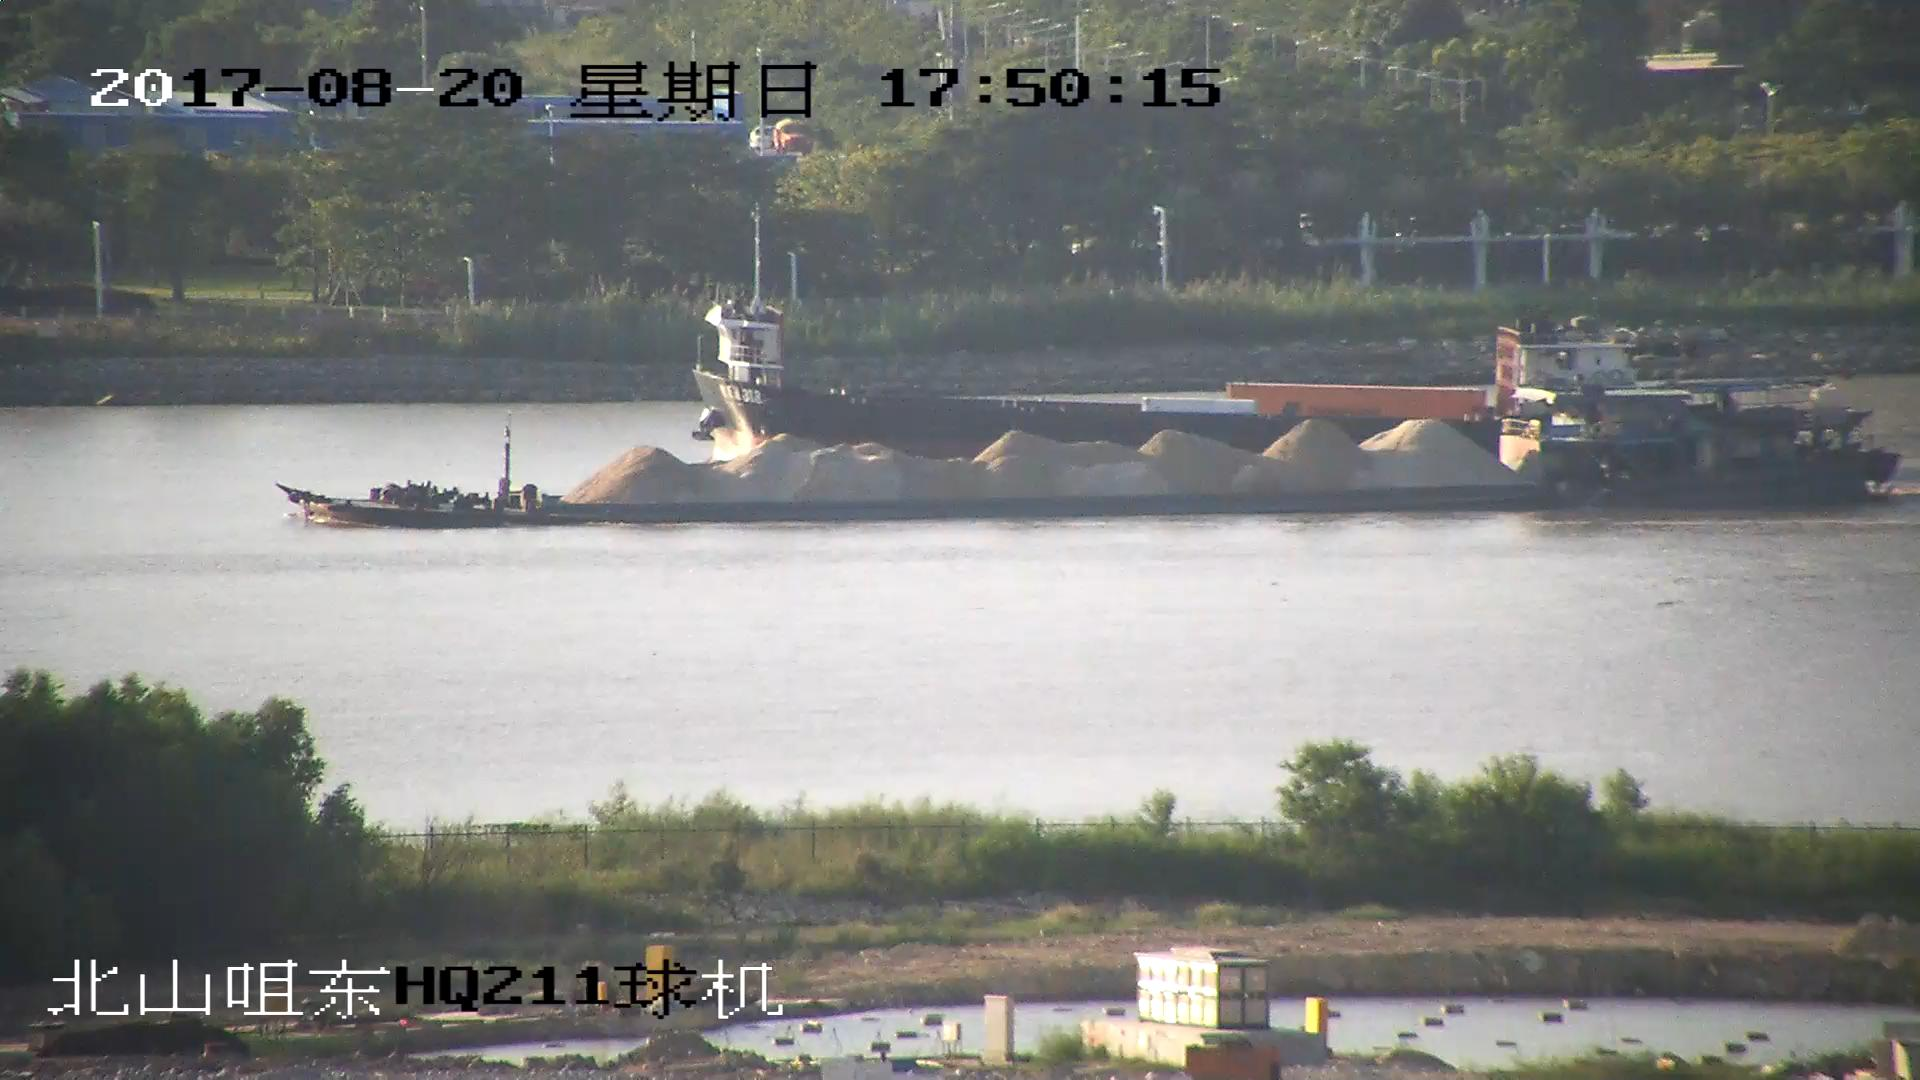general cargo ship: (691, 208, 1665, 454)
ore carrier: (289, 403, 1901, 527)
